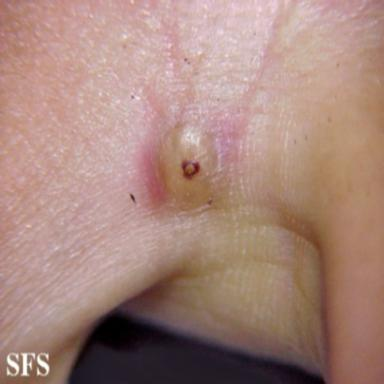Tungiasis: (160, 124, 217, 208)
